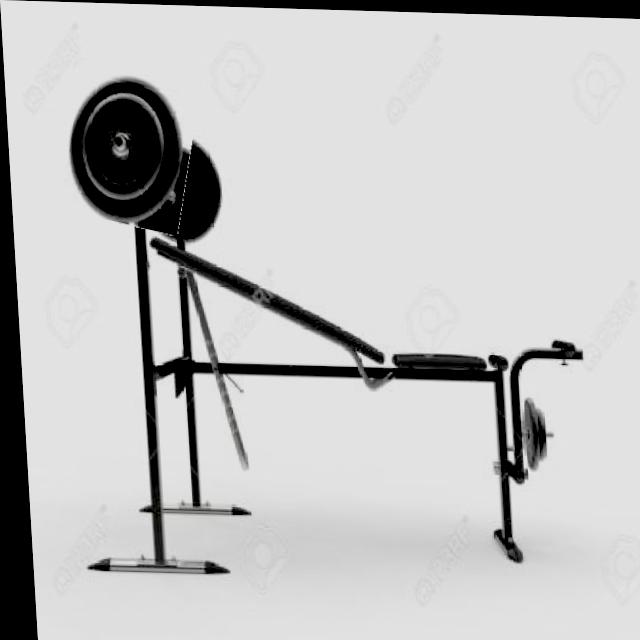barbell: (50, 61, 200, 231)
